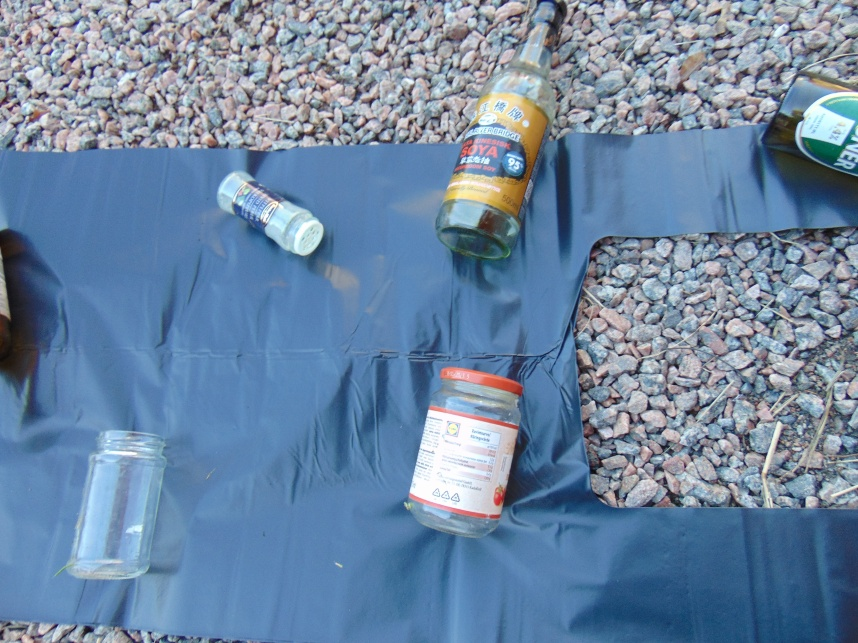glass_bottle: (435, 1, 574, 262), (406, 367, 525, 537), (69, 430, 163, 584), (755, 70, 858, 186), (214, 170, 325, 255)
